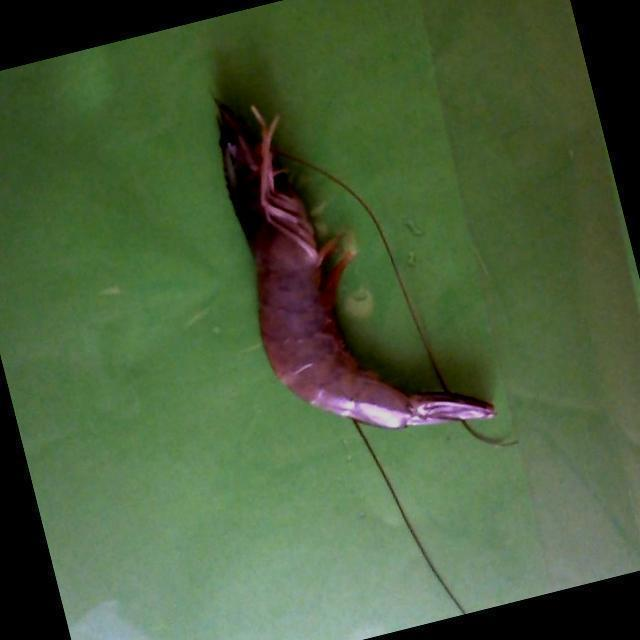shrimp: (217, 104, 495, 429)
